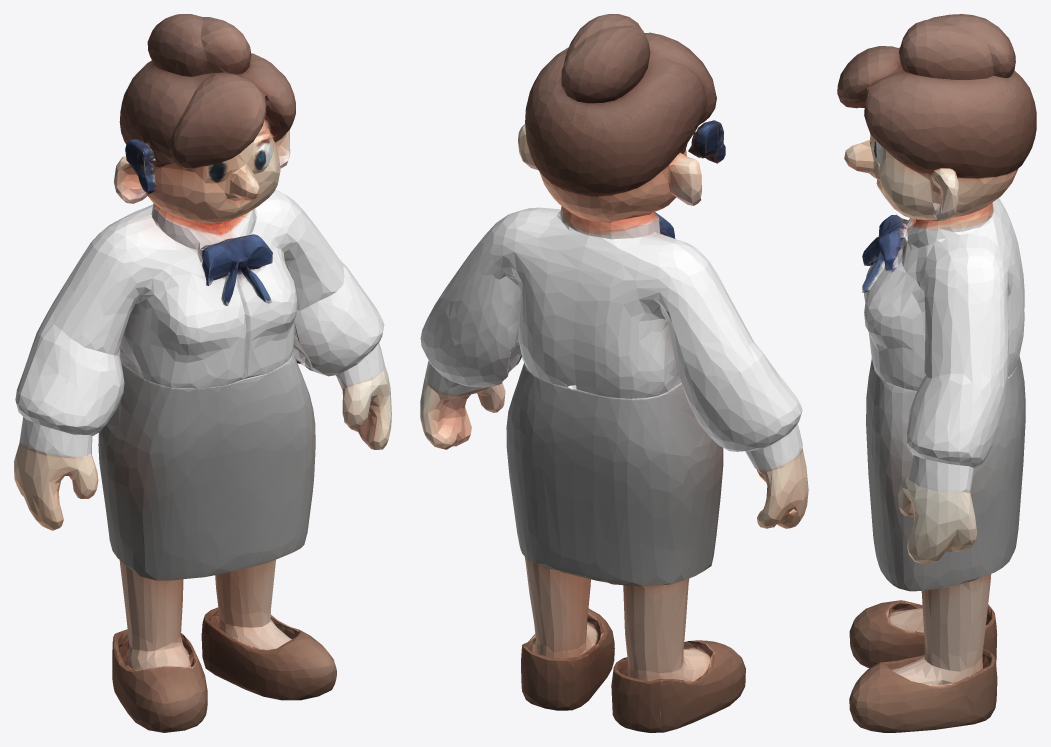
File: ruth.glb
3 views of the same model, side by side, from view 1: azimuth 30°, elevation 25°; view 2: azimuth 150°, elevation 25°; view 3: azimuth 270°, elevation 25° (orthographic). The views are drawn at different scales.
Parts seen in each view (by area): view 1: geometry_0; view 2: geometry_0; view 3: geometry_0.
Part boxes in pixels (x1,y1,x2,y2): geometry_0: (14,14,391,732); geometry_0: (420,14,808,732); geometry_0: (837,14,1036,732).
Size of the model in its own units: 0.5757 by 0.9998 by 0.2707.
1 material, 1 textured.
